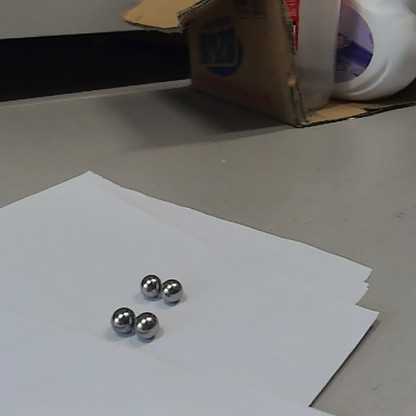ironball: (131, 308, 158, 341), (137, 271, 163, 302), (109, 306, 136, 335), (159, 274, 182, 304)
